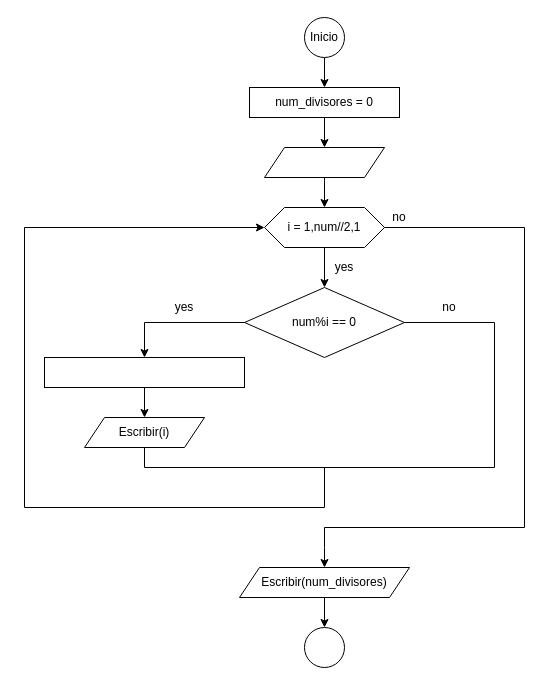
The diagram is 550 pixels wide and 685 high, and some of its shapes have lost their labels. Here are the shapes that lost their labels. From the top down, the box of each, then its label:
(264, 146, 384, 178): Leer(num)
(44, 356, 244, 388): num_divisores = num_divisores + 1
(304, 626, 344, 668): Fin
